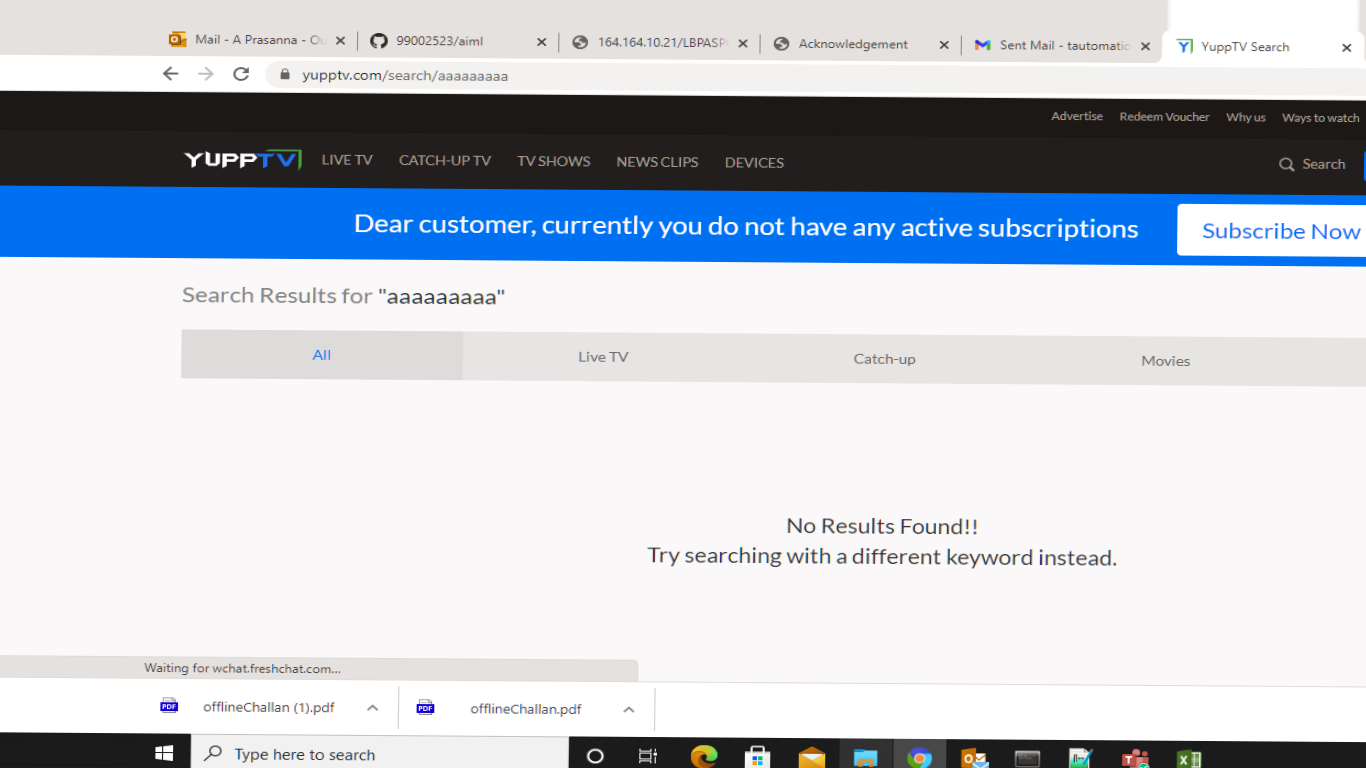noresultsfound: (631, 475, 1131, 590)
searchicon: (1263, 142, 1353, 182)
